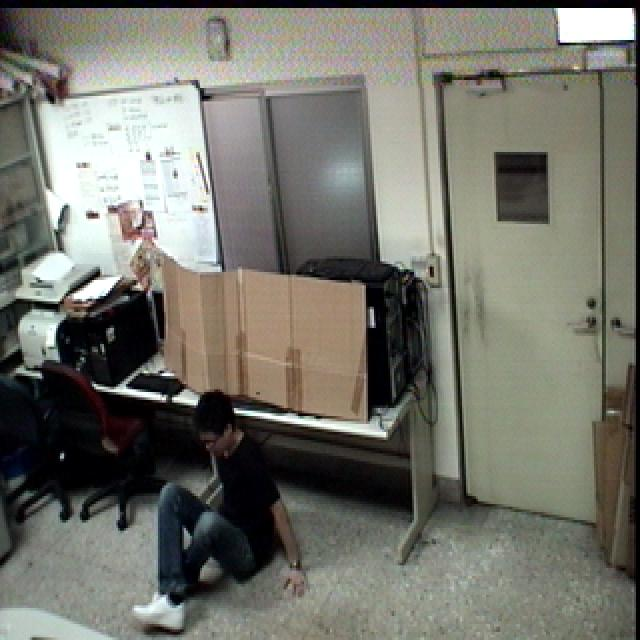sit: (130, 381, 314, 637)
